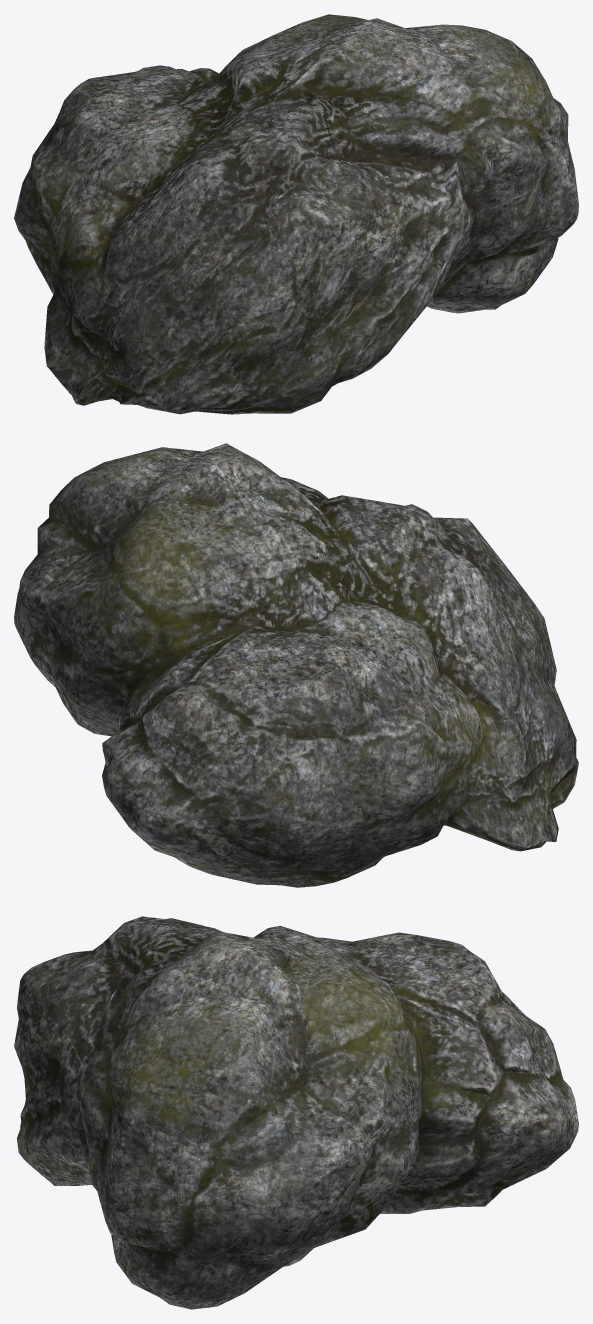
File: SM_rock_02.fbx
The picture shows the model from 3 angles, top to bottom: view 1: azimuth 30°, elevation 25°; view 2: azimuth 150°, elevation 25°; view 3: azimuth 270°, elevation 25°; orthographic projection. The views are drawn at different scales.
Parts seen in each view (by area): view 1: SM_rock_02; view 2: SM_rock_02; view 3: SM_rock_02.
Part boxes in pixels (x1=…): SM_rock_02: x1=14, y1=14, x2=578, y2=414; SM_rock_02: x1=14, y1=443, x2=578, y2=887; SM_rock_02: x1=14, y1=916, x2=578, y2=1309.
Bounding box in the file's own units: 291 × 170 × 270.
